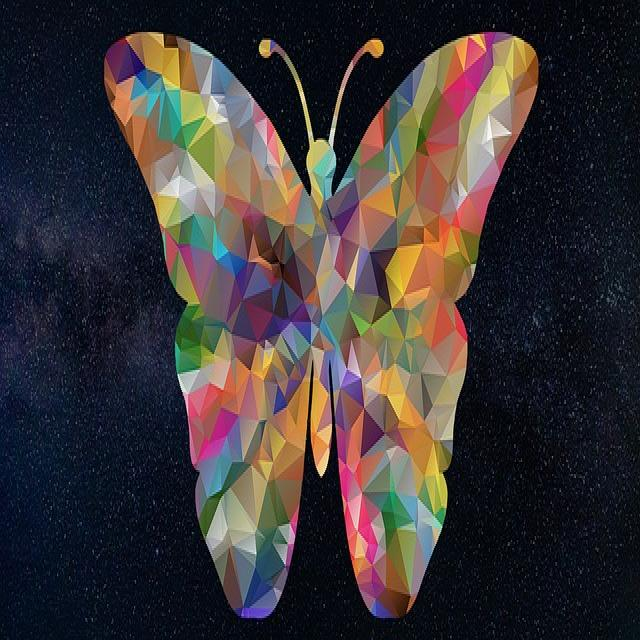butterfly: (102, 30, 540, 624)
